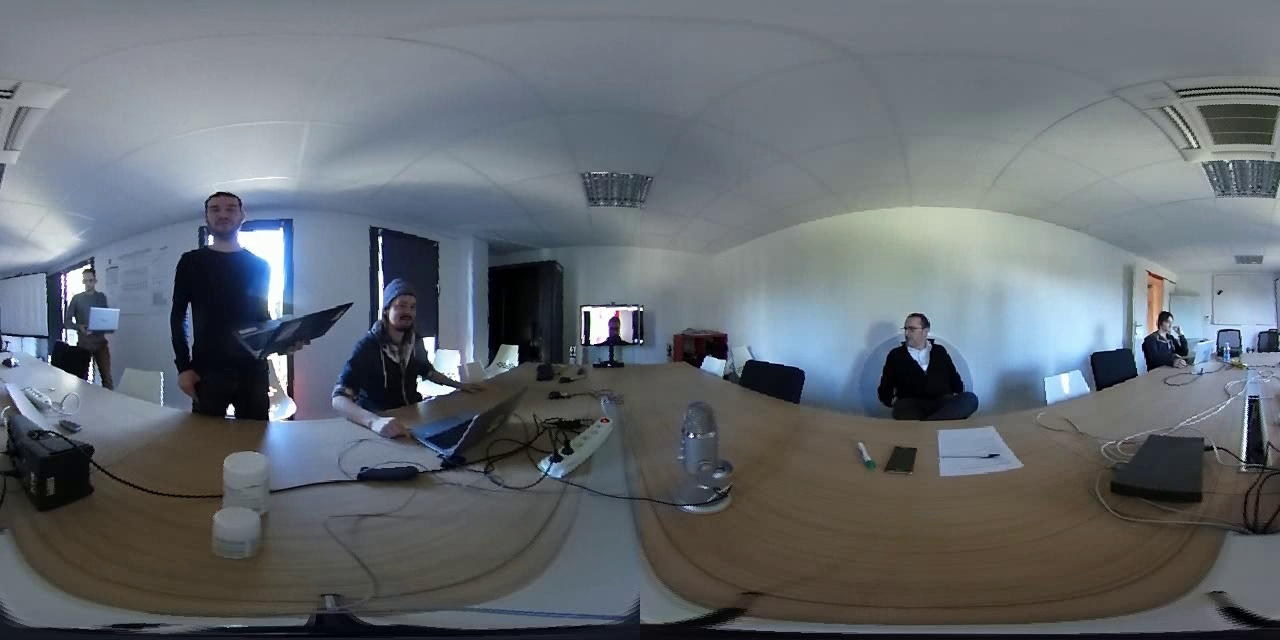person: (165, 177, 294, 403), (346, 267, 456, 418), (865, 292, 971, 419), (59, 265, 123, 364), (1135, 301, 1199, 371), (576, 303, 646, 341)
